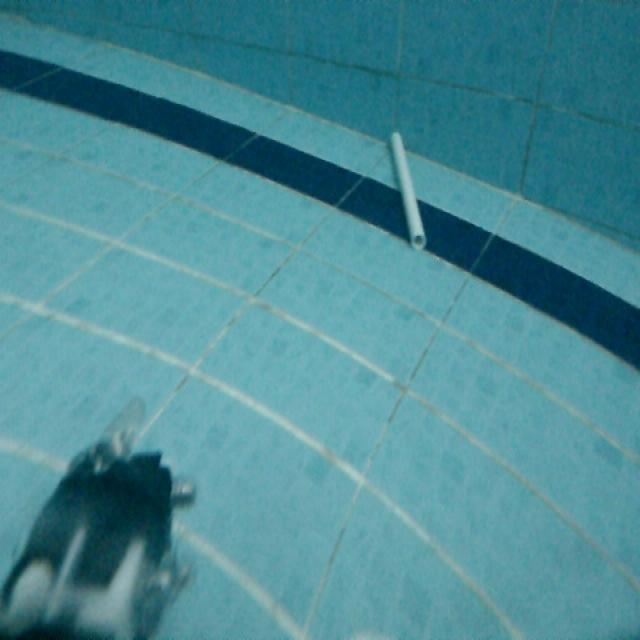Cube: (386, 125, 429, 252)
